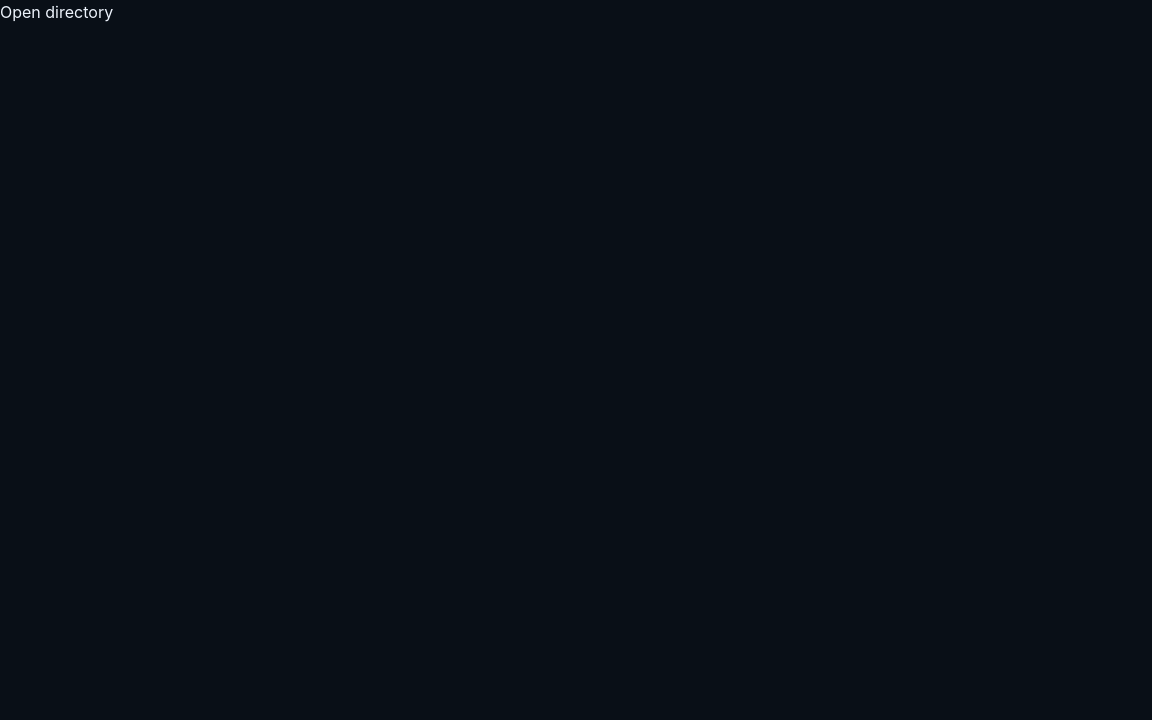
terminal-wide navigation › offers an explicit no-match state and Ctrl+K toggles the directory
Press k
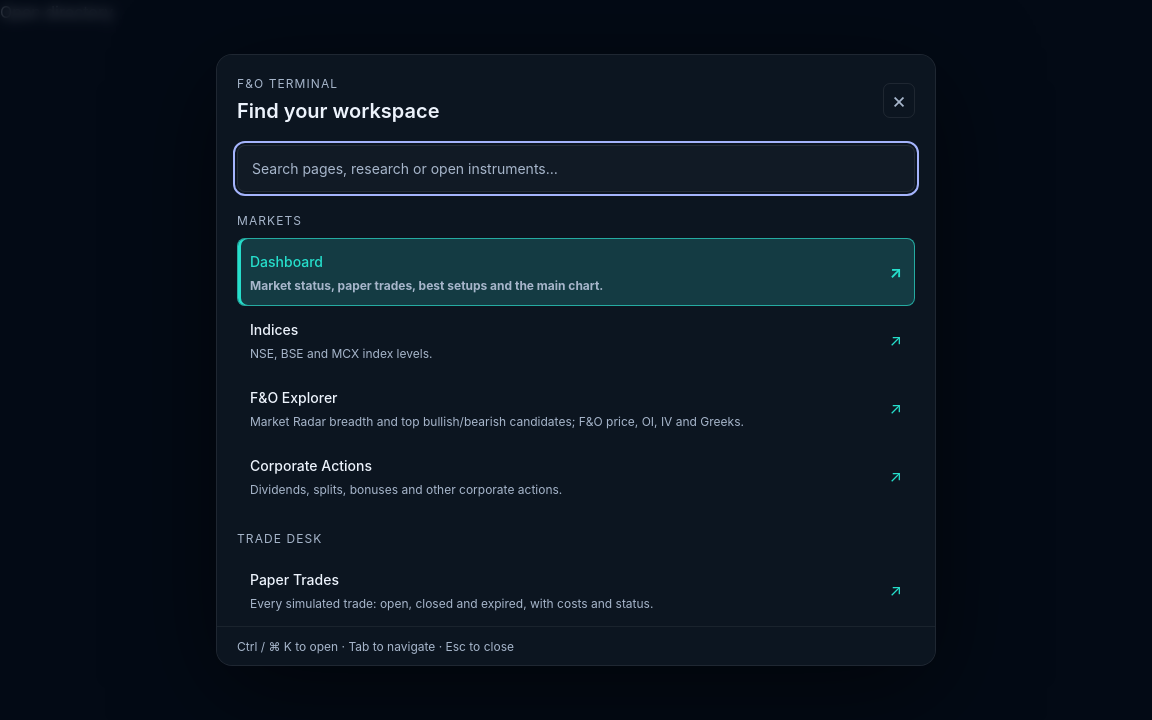
Type "zzzzz" into the search field. click: (576, 168)
box: [237, 145, 915, 192]
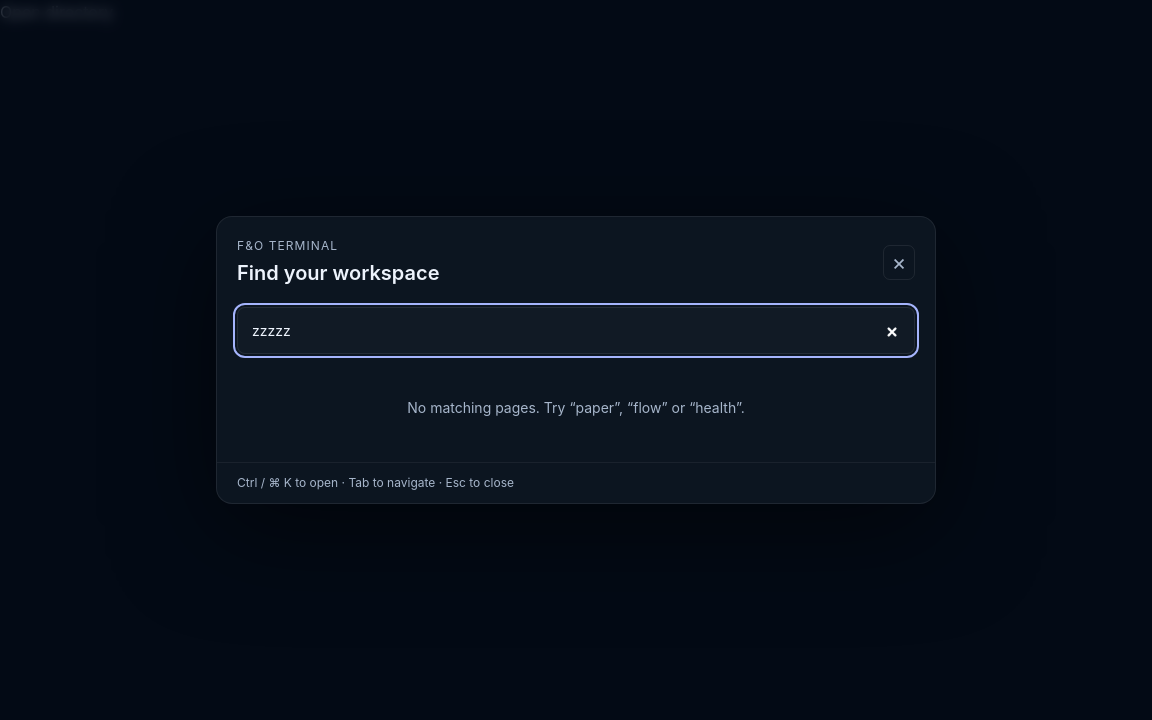
Check: the text "No matching pages. Try “paper”, “flow” or “health”." is shown, box [407, 399, 745, 416]
Press k
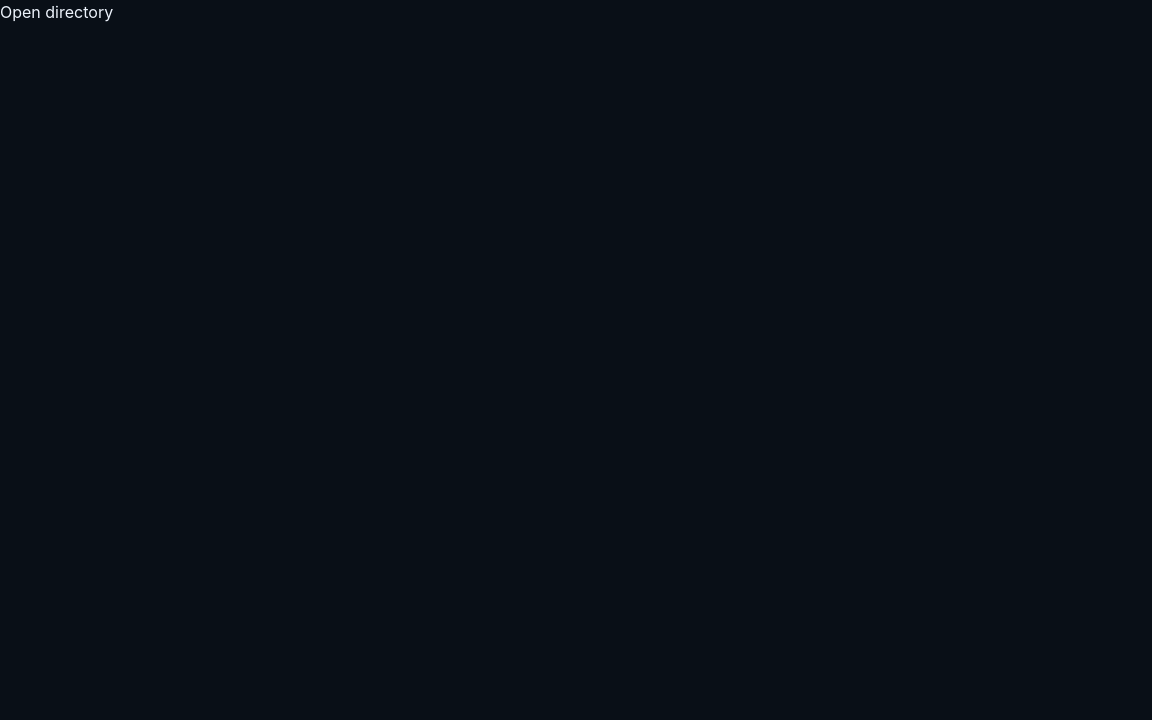
Check: the dialog is gone
